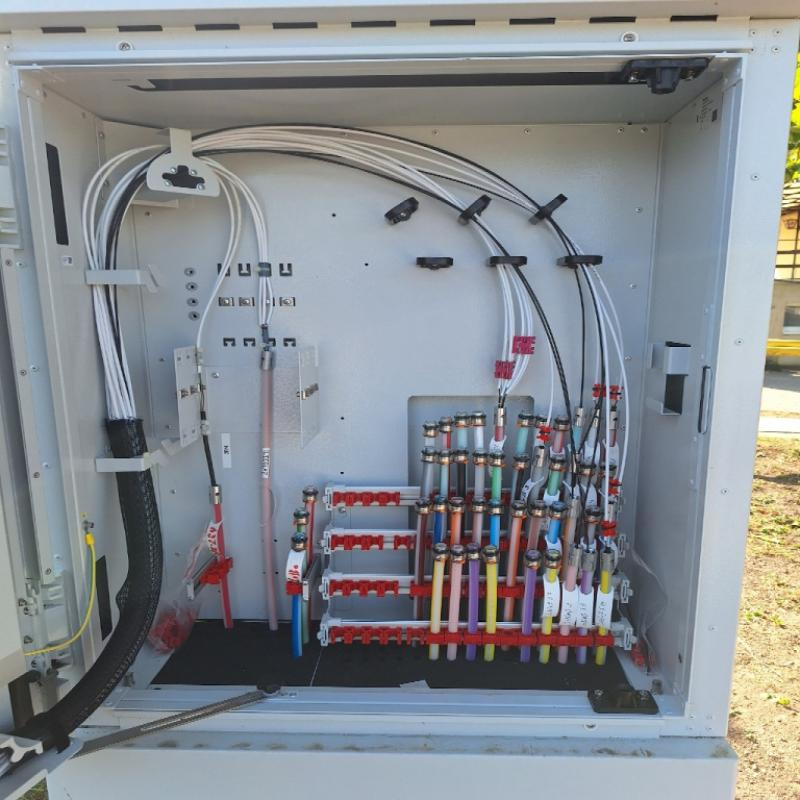NT-Gehause: (0, 0, 749, 792)
